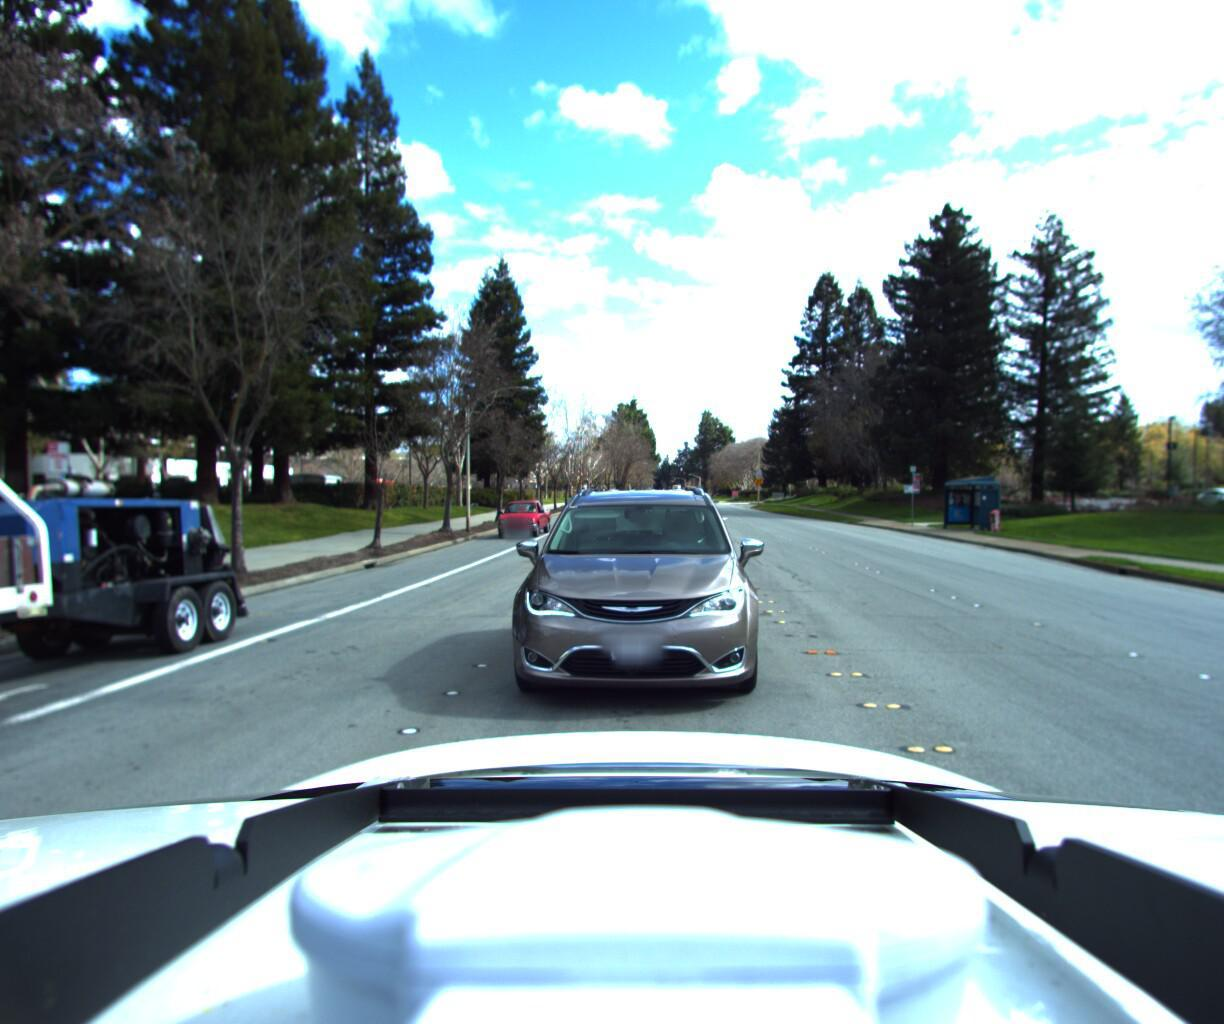car: (485, 466, 764, 723), (490, 508, 550, 546)
truck: (0, 0, 319, 1024)
